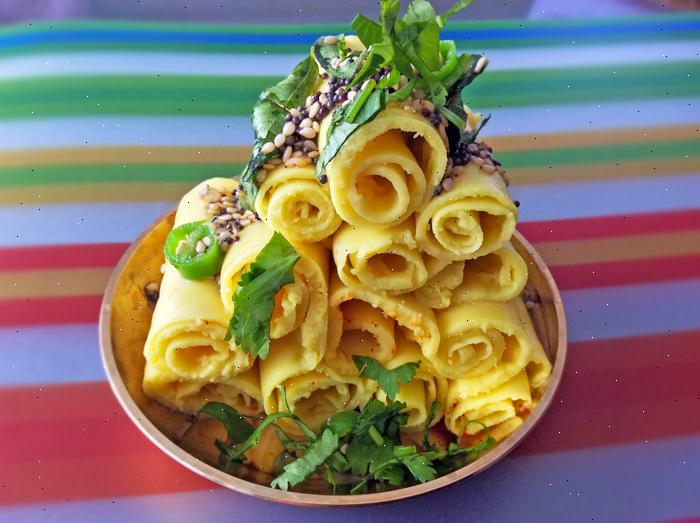khandvi: (170, 119, 536, 427)
